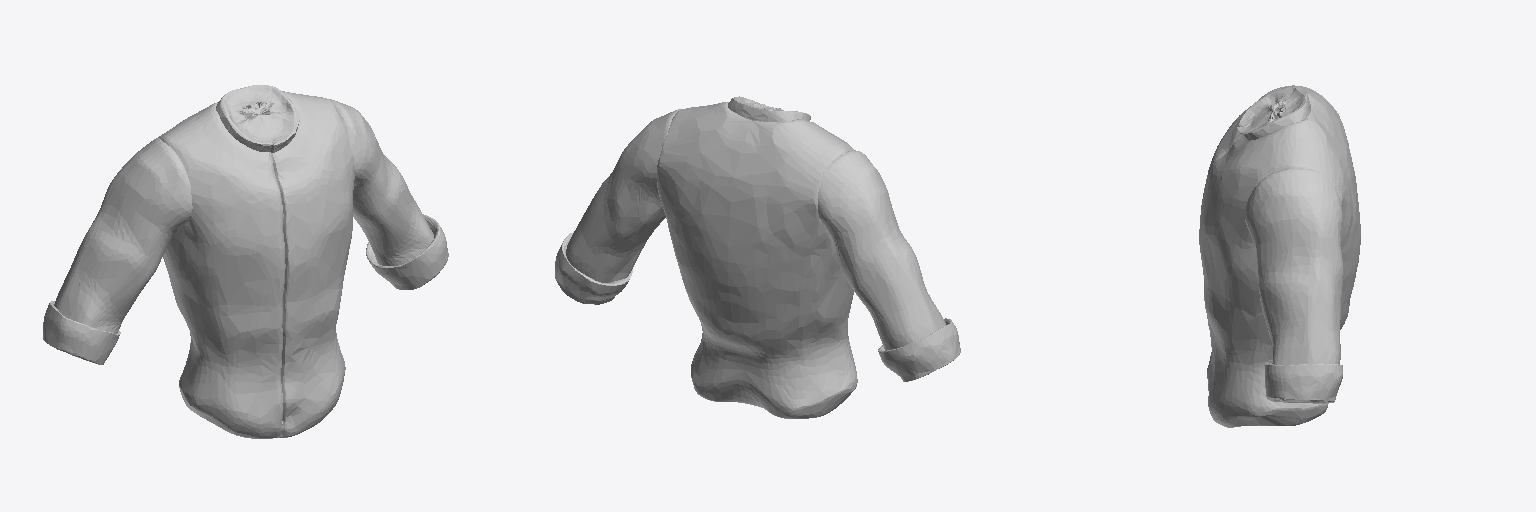
The model's file is Thug01_shirt.OBJ.
3 views of the same model, side by side, from view 1: azimuth 30°, elevation 25°; view 2: azimuth 150°, elevation 25°; view 3: azimuth 270°, elevation 25° (orthographic).
Parts seen in each view (by area): view 1: Group61960; view 2: Group61960; view 3: Group61960.
Boxes of the visible parts, x1,y1,x2,y2 form: Group61960: [43, 85, 448, 438]; Group61960: [555, 96, 960, 418]; Group61960: [1199, 85, 1360, 427].
Size of the model in its own units: 9.01 by 6.91 by 3.19.